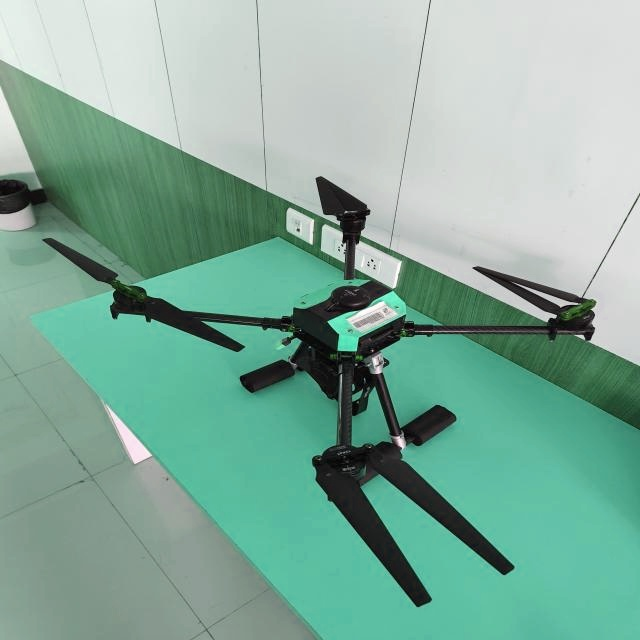quadcopter: (37, 171, 603, 612)
